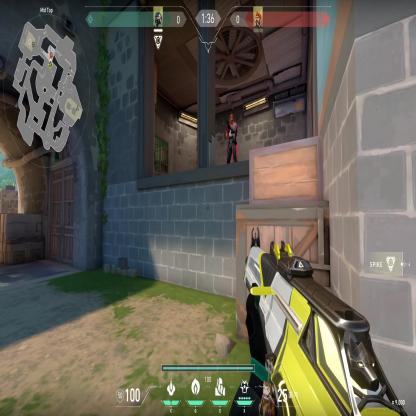enemy: (225, 111, 239, 165)
